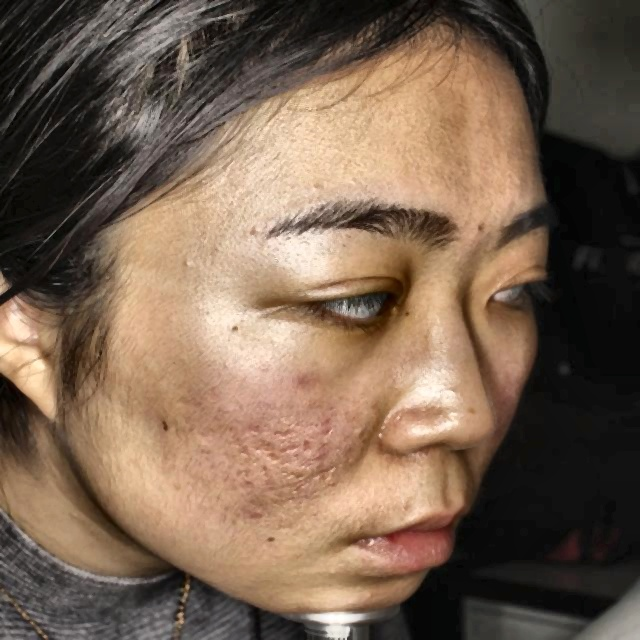comedone: (292, 366, 325, 392)
